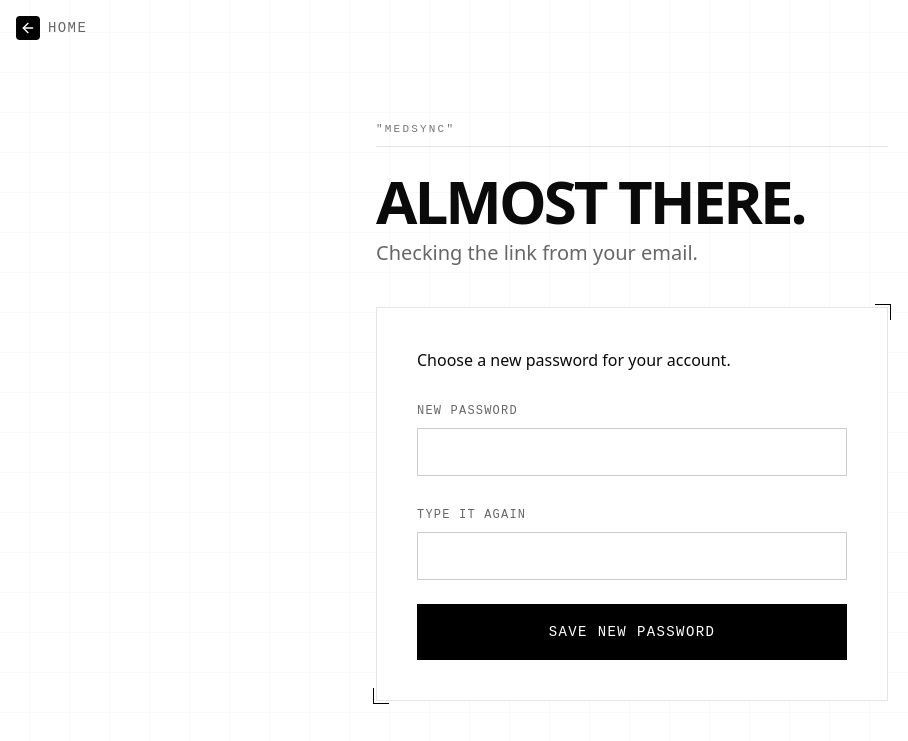
/confirm links from MedSync emails › lets a recovery link set a new password
In the password field labelled "New password": x=632, y=452 [417, 428, 847, 476], type "Str0ng!Passw0rd"
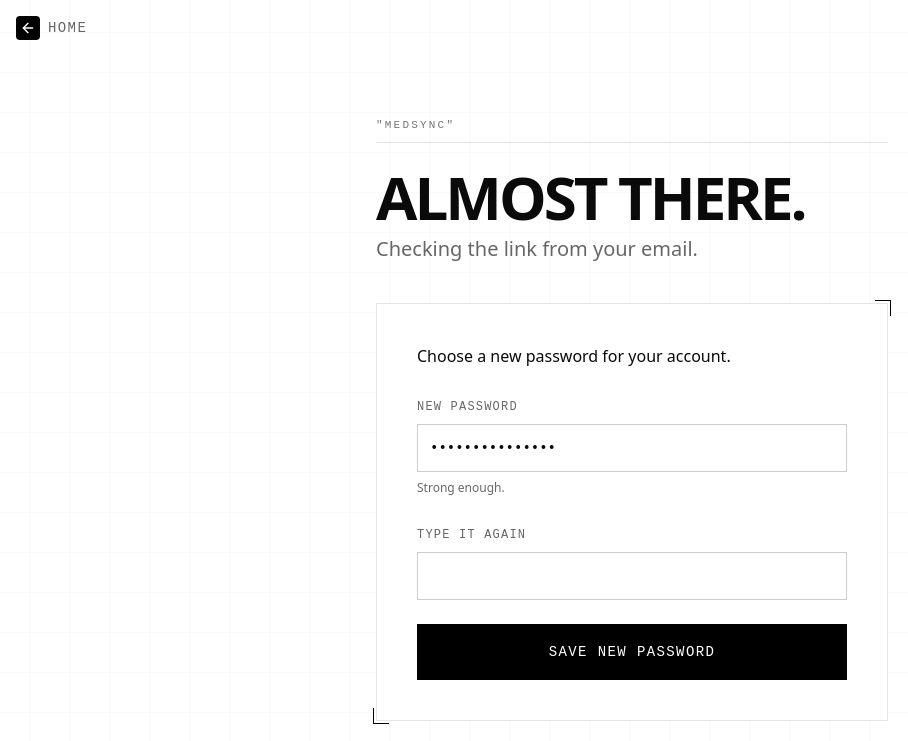
In the password field labelled "Type it again": x=632, y=576 [417, 552, 847, 600], type "Str0ng!Passw0rd"
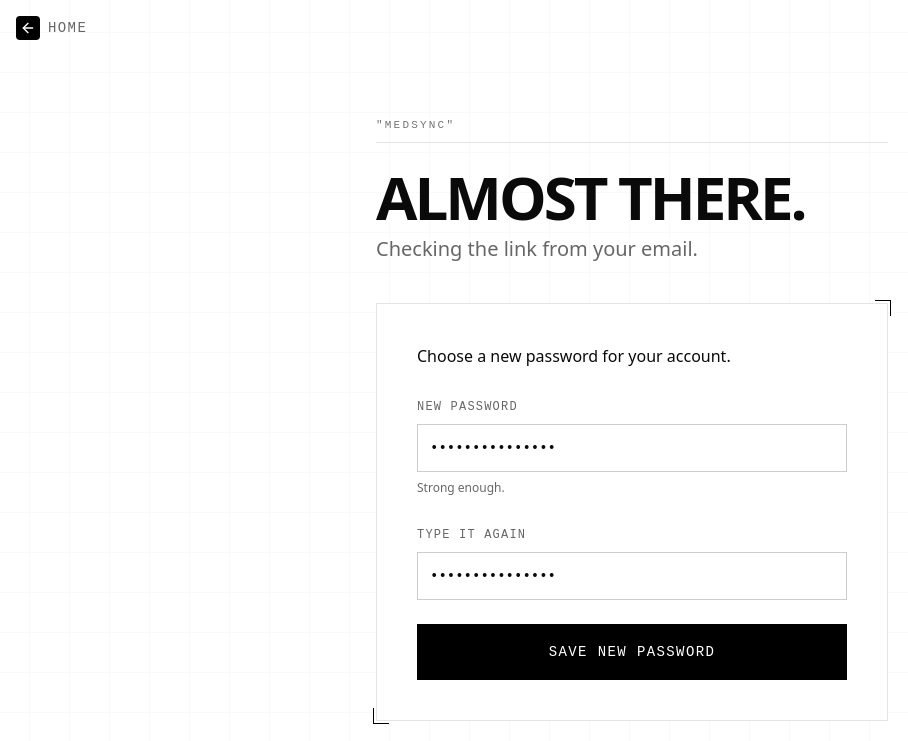
Click the button "Save new password": x=632, y=652 [417, 624, 847, 680]
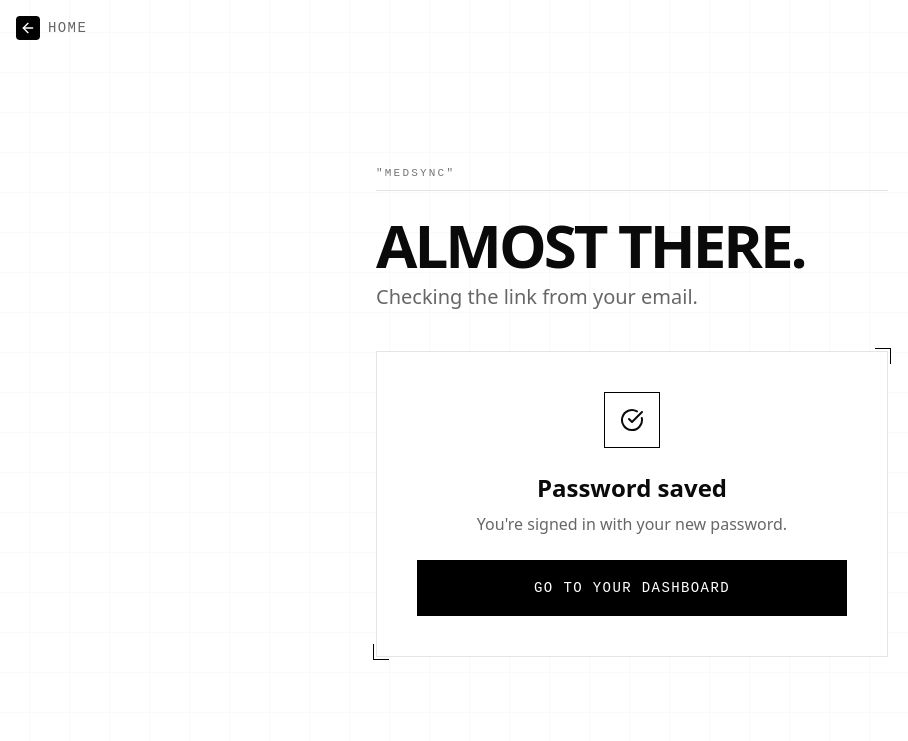
Expected: the heading "Password saved" is shown, [537, 470, 727, 504]
